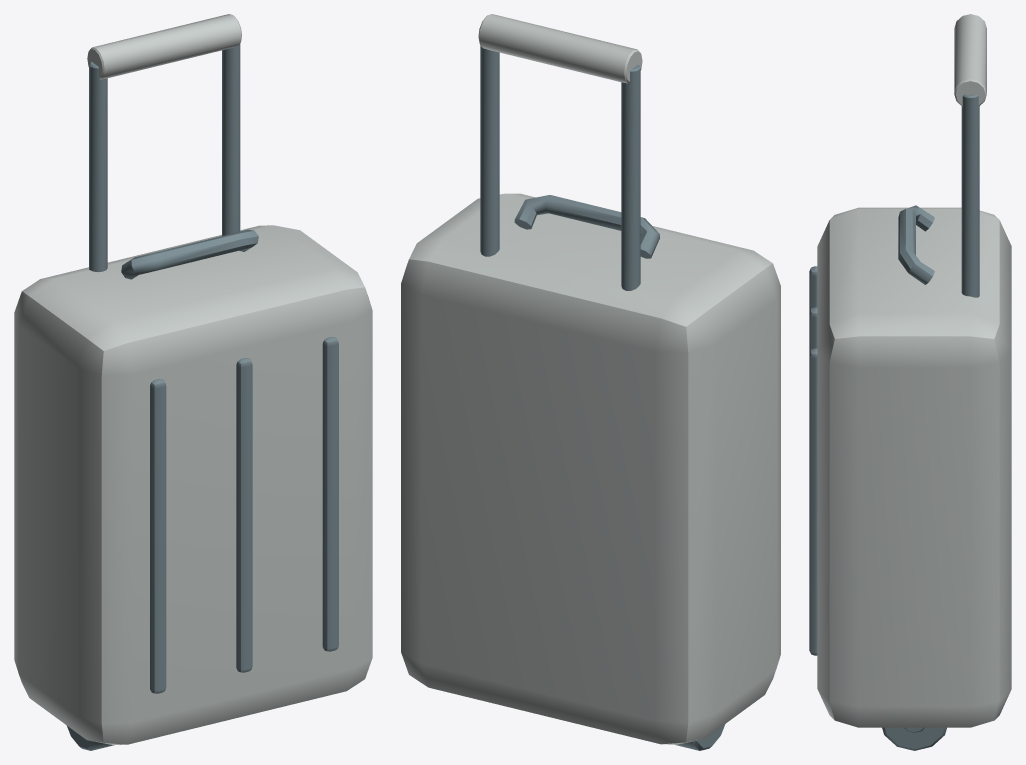
Rendered from suitcase.glb.
3 renders of one model, left to right at view 1: azimuth 30°, elevation 25°; view 2: azimuth 150°, elevation 25°; view 3: azimuth 270°, elevation 25°, orthographic. The views are drawn at different scales.
Visible parts, largest first — view 1: luggage_shell, shell_ridge.001, shell_ridge.002, shell_ridge, handle_grip, telescopic_handle, telescopic_handle.001, carry_handle; view 2: luggage_shell, handle_grip, telescopic_handle, telescopic_handle.001, carry_handle; view 3: luggage_shell, telescopic_handle.001, shell_ridge.002, handle_grip, carry_handle, luggage_wheel_wheel.001, shell_ridge, shell_ridge.001.
Part boxes in pixels (left/top/right/bottom): luggage_shell: left=14, top=225, right=372, bottom=744; shell_ridge.001: left=236, top=358, right=252, bottom=672; shell_ridge.002: left=322, top=337, right=338, bottom=651; shell_ridge: left=150, top=379, right=166, bottom=693; handle_grip: left=87, top=14, right=241, bottom=79; telescopic_handle: left=89, top=61, right=107, bottom=272; telescopic_handle.001: left=222, top=44, right=240, bottom=235; carry_handle: left=121, top=229, right=258, bottom=279; luggage_shell: left=401, top=193, right=780, bottom=744; handle_grip: left=478, top=14, right=642, bottom=83; telescopic_handle: left=621, top=65, right=640, bottom=290; telescopic_handle.001: left=480, top=45, right=499, bottom=256; carry_handle: left=514, top=195, right=659, bottom=258; luggage_shell: left=817, top=207, right=1011, bottom=727; telescopic_handle.001: left=961, top=94, right=979, bottom=297; shell_ridge.002: left=809, top=348, right=817, bottom=655; handle_grip: left=954, top=14, right=986, bottom=106; carry_handle: left=898, top=205, right=934, bottom=284; luggage_wheel_wheel.001: left=882, top=727, right=946, bottom=750; shell_ridge: left=809, top=266, right=817, bottom=311; shell_ridge.001: left=809, top=307, right=817, bottom=352.
Bounding box in the file's own units: 0.44 × 0.962 × 0.271.
